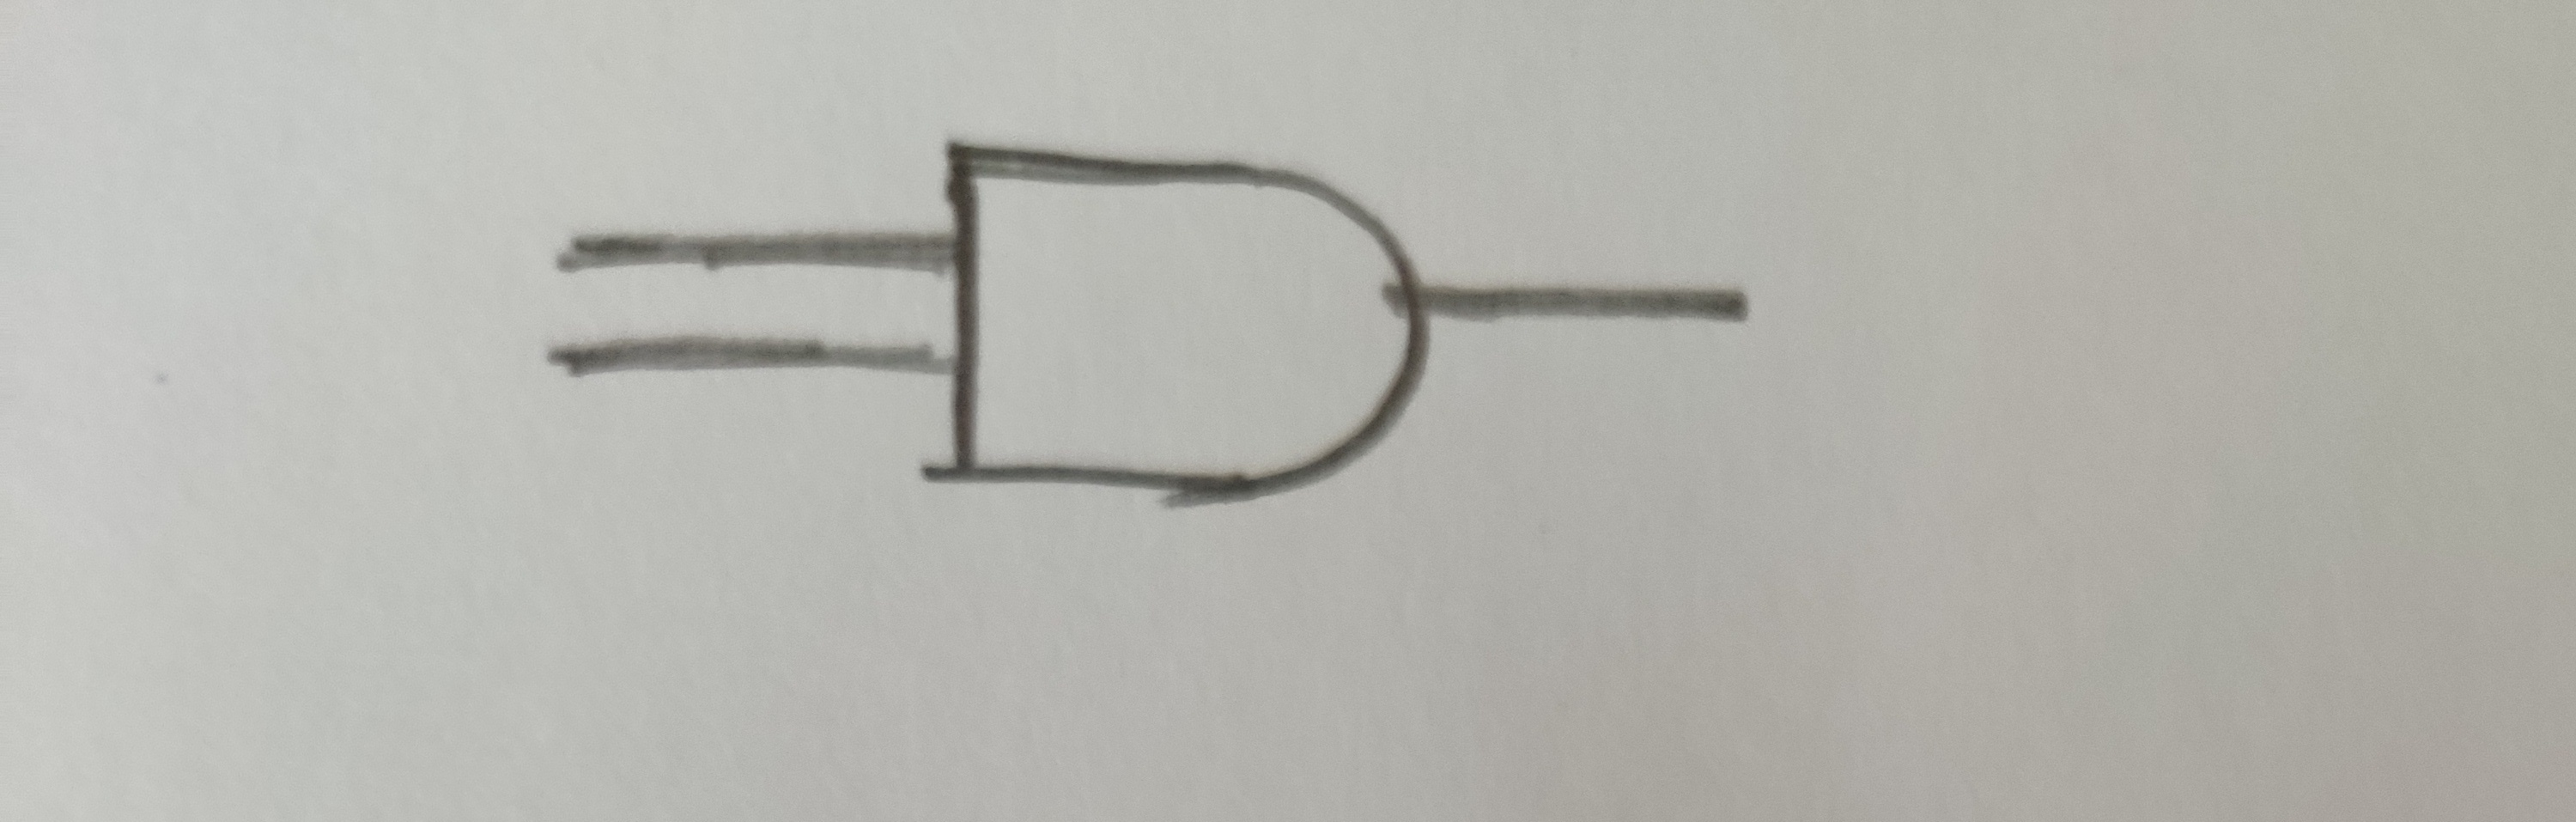and: (918, 109, 1437, 589)
